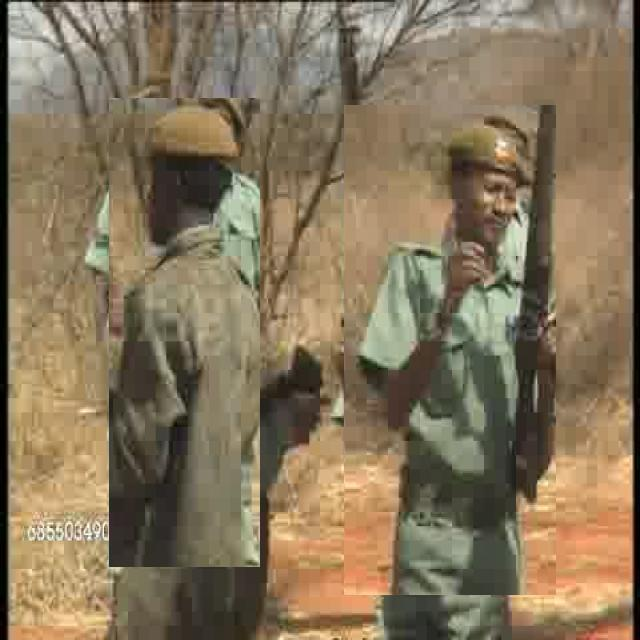poacher: (344, 105, 556, 595), (109, 98, 260, 567)
weapon: (340, 26, 384, 506)
